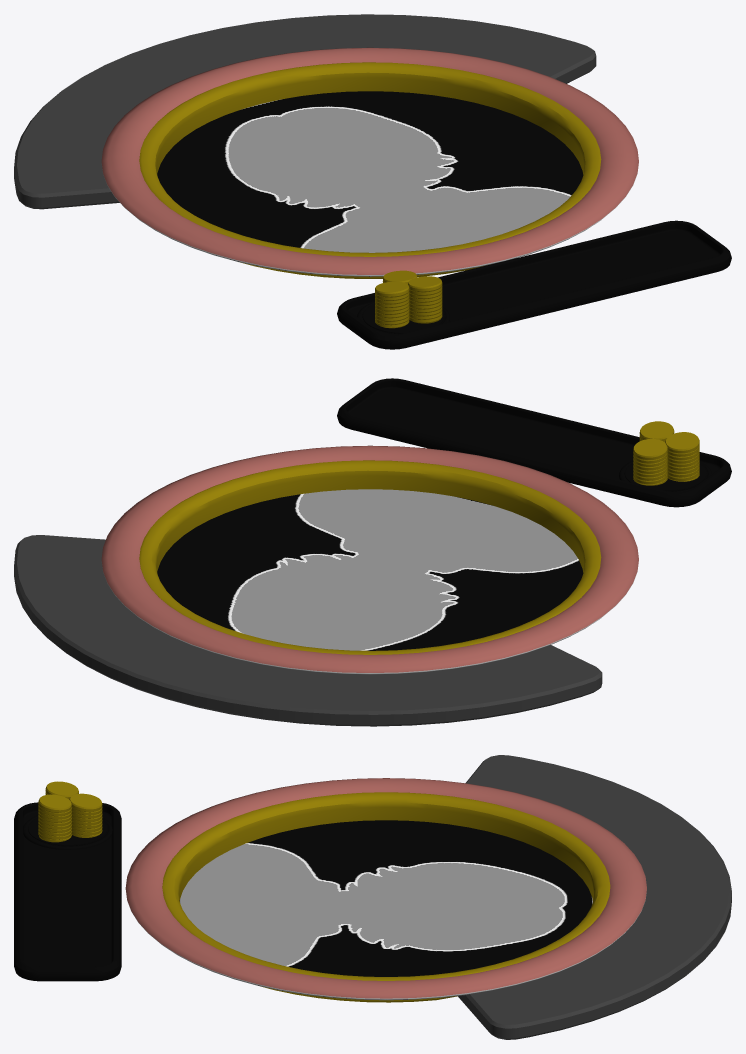
File: PlayerIcon.fbx
3 renders of one model, top to bottom at view 1: azimuth 30°, elevation 25°; view 2: azimuth 150°, elevation 25°; view 3: azimuth 270°, elevation 25°, orthographic. The views are drawn at different scales.
Parts seen in each view (by area): view 1: Base, RingGreen, Coins_Holder, coins9, RingRed, CoinTray; view 2: Base, RingGreen, Coins_Holder, coins9, RingRed, CoinTray; view 3: Base, RingGreen, Coins_Holder, coins9, CoinTray, RingRed.
Part boxes in pixels (left/top/right/bottom): Base: left=14, top=14, right=601, bottom=278; RingGreen: left=101, top=47, right=638, bottom=274; Coins_Holder: left=337, top=220, right=731, bottom=349; coins9: left=375, top=270, right=442, bottom=297; RingRed: left=102, top=163, right=638, bottom=276; CoinTray: left=357, top=301, right=449, bottom=334; Base: left=14, top=460, right=602, bottom=726; RingGreen: left=101, top=445, right=638, bottom=672; Coins_Holder: left=337, top=378, right=731, bottom=507; coins9: left=633, top=421, right=699, bottom=459; RingRed: left=102, top=561, right=638, bottom=674; CoinTray: left=619, top=461, right=711, bottom=492; Base: left=162, top=755, right=731, bottom=1039; RingGreen: left=125, top=778, right=646, bottom=998; Coins_Holder: left=14, top=802, right=121, bottom=981; coins9: left=38, top=781, right=102, bottom=812; CoinTray: left=23, top=815, right=112, bottom=849; RingRed: left=127, top=893, right=646, bottom=1000.
Bounding box in the file's own units: 2.85 × 0.2601 × 3.17.
Materials: 6 (1 with a texture image).
